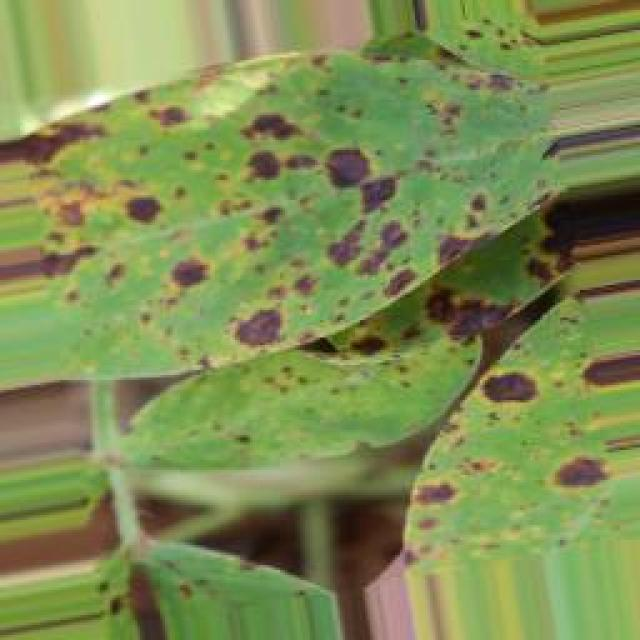Yellowish: (0, 0, 590, 640)
